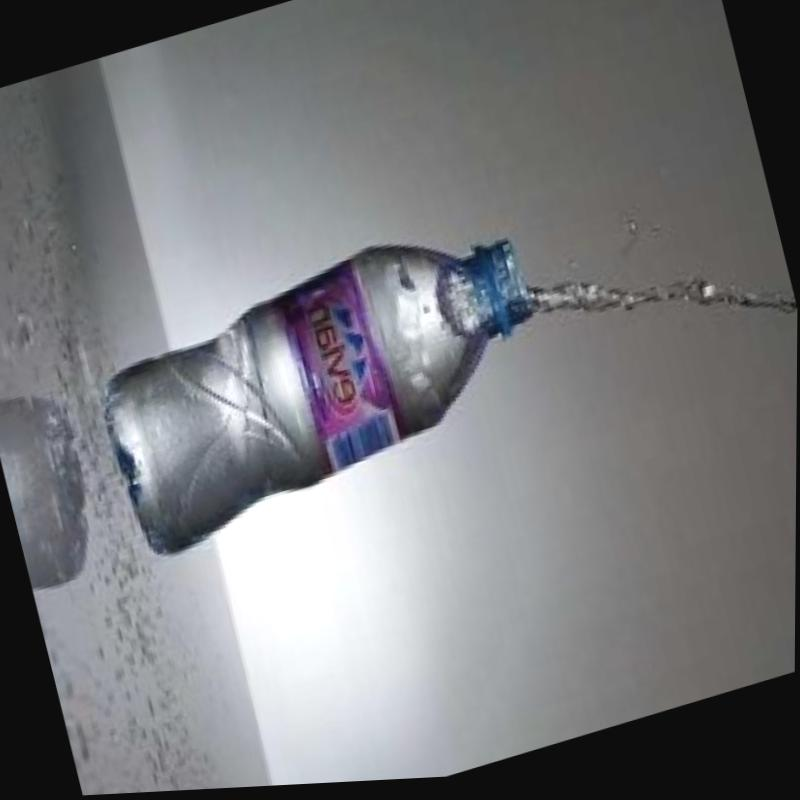botella: (82, 205, 561, 566)
